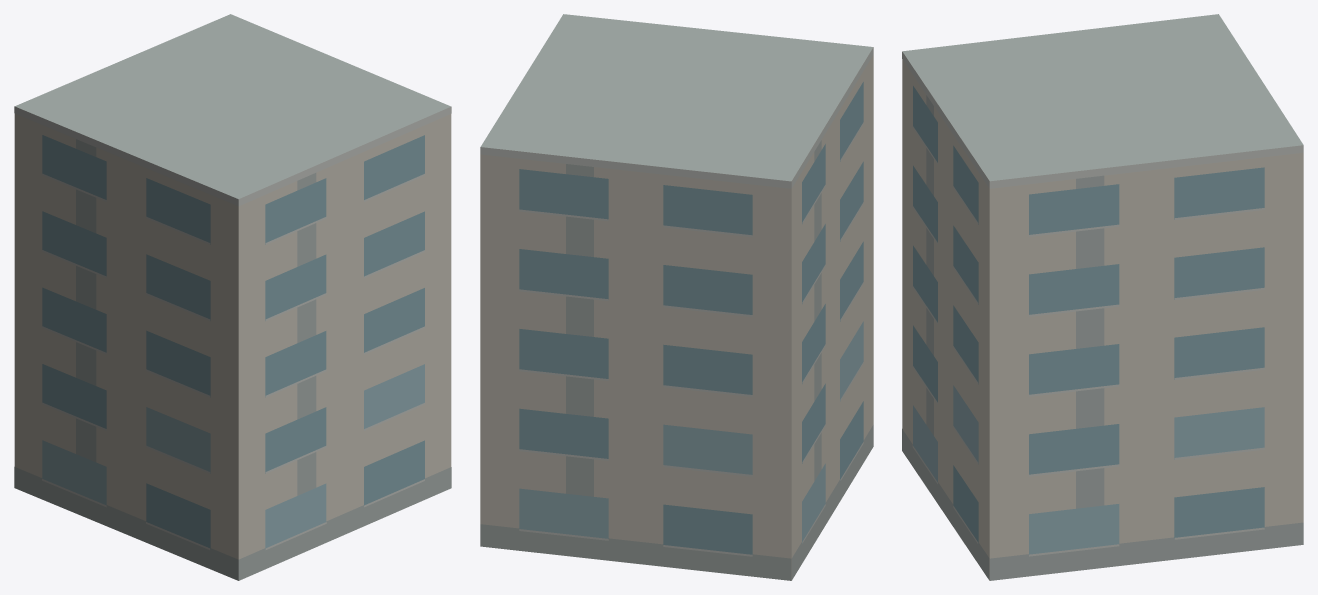
The model's file is survey-upis-32716230.glb.
3 views of the same model, side by side, from view 1: azimuth 30°, elevation 25°; view 2: azimuth 150°, elevation 25°; view 3: azimuth 270°, elevation 25° (orthographic). The views are drawn at different scales.
Visible parts, largest first — view 1: survey-upis-32716230.tmp; view 2: survey-upis-32716230.tmp; view 3: survey-upis-32716230.tmp.
Part boxes in pixels (x1,y1,x2,y2): survey-upis-32716230.tmp: [14, 14, 451, 580]; survey-upis-32716230.tmp: [480, 14, 873, 580]; survey-upis-32716230.tmp: [902, 14, 1303, 580].
Bounding box in the file's own units: 11.68 × 13 × 11.85.
